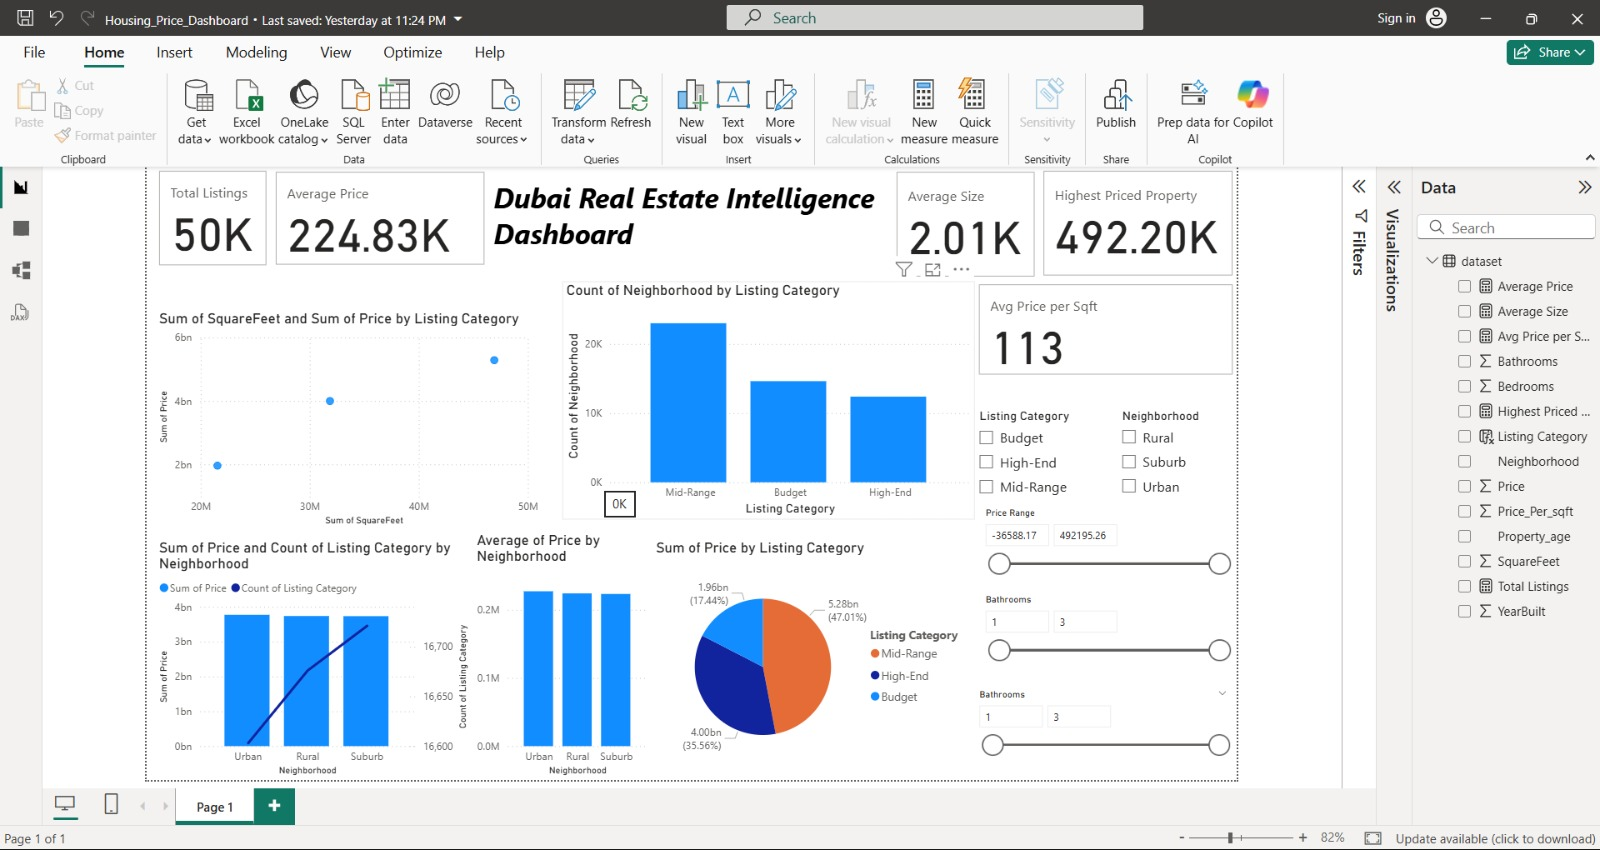

The dashboard page shown, as its layout file describes it:
{"tool":"powerbi","page":{"name":"Page 1","canvas":[1280,720],"ordinal":0},"visuals":[{"type":"cardVisual","fields":{"Data":["dataset.Total Listings"]},"box":[9.8,0,137,121.1],"z":0},{"type":"cardVisual","fields":{"Data":["dataset.Average Price"]},"box":[146.7,1.2,255.6,119.8],"z":1000},{"type":"cardVisual","fields":{"Data":["dataset.Average Size"]},"box":[875.5,1.2,172.4,133.3],"z":2000},{"type":"cardVisual","fields":{"Data":["dataset.Avg Price per Sqft"]},"box":[972.2,133.3,308.2,116.2],"z":3000},{"type":"cardVisual","fields":{"Data":["dataset.Highest Priced Property"]},"box":[1048,0,232.3,133.3],"z":4000},{"type":"slicer","fields":{"Values":["dataset.Bathrooms"]},"box":[972.2,496.5,308.2,111.3],"z":9000},{"type":"slicer","fields":{"Values":["dataset.Neighborhood"]},"box":[1132.3,278.8,148,116.2],"z":10000},{"type":"slicer","fields":{"Values":["dataset.Price"]},"box":[972.2,395,308.2,101.5],"z":12000},{"type":"slicer","fields":{"Values":["dataset.Bathrooms"]},"box":[964.8,607.7,315.5,111.3],"z":13000},{"type":"slicer","fields":{"Values":["dataset.Listing Category"]},"box":[964.8,278.8,165.1,114.9],"z":13001},{"type":"clusteredColumnChart","fields":{"Category":["dataset.Listing Category"],"Y":["CountNonNull(dataset.Neighborhood)"]},"box":[487.9,134.5,484.2,280],"z":13002},{"type":"pieChart","fields":{"Category":["dataset.Listing Category"],"Y":["Sum(dataset.Price)"]},"box":[593.1,436.6,379.1,282.5],"z":13003},{"type":"scatterChart","fields":{"X":["Sum(dataset.SquareFeet)"],"Y":["Sum(dataset.Price)"],"Category":["dataset.Listing Category"]},"box":[9.8,167.5,454.9,259.2],"z":13004},{"type":"clusteredColumnChart","fields":{"Category":["dataset.Neighborhood"],"Y":["Avg(dataset.Price)"]},"box":[382.7,428,210.3,292.3],"z":13005},{"type":"lineClusteredColumnComboChart","fields":{"Category":["dataset.Neighborhood"],"Y":["Sum(dataset.Price)"],"Y2":["CountNonNull(dataset.Listing Category)"]},"box":[9.8,436.6,373,283.7],"z":13006},{"type":"textbox","box":[402.3,9.8,473.2,111.3],"z":13007}]}

Visuals, with their boxes on the page's 1280x720 design canvas (x1, y1, x2, y2). These are canvas units, not pixel positions in the 1600x850 screenshot, which may show the page scaled, cropped or inside an application window:
cardVisual - dataset.Total Listings: bbox(10, 0, 147, 121)
cardVisual - dataset.Average Price: bbox(147, 1, 402, 121)
cardVisual - dataset.Average Size: bbox(876, 1, 1048, 134)
cardVisual - dataset.Avg Price per Sqft: bbox(972, 133, 1280, 250)
cardVisual - dataset.Highest Priced Property: bbox(1048, 0, 1280, 133)
slicer - dataset.Bathrooms: bbox(972, 496, 1280, 608)
slicer - dataset.Neighborhood: bbox(1132, 279, 1280, 395)
slicer - dataset.Price: bbox(972, 395, 1280, 496)
slicer - dataset.Bathrooms: bbox(965, 608, 1280, 719)
slicer - dataset.Listing Category: bbox(965, 279, 1130, 394)
clusteredColumnChart - dataset.Listing Category x CountNonNull(dataset.Neighborhood): bbox(488, 134, 972, 414)
pieChart - dataset.Listing Category x Sum(dataset.Price): bbox(593, 437, 972, 719)
scatterChart - Sum(dataset.SquareFeet) x Sum(dataset.Price): bbox(10, 168, 465, 427)
clusteredColumnChart - dataset.Neighborhood x Avg(dataset.Price): bbox(383, 428, 593, 720)
lineClusteredColumnComboChart - dataset.Neighborhood x Sum(dataset.Price): bbox(10, 437, 383, 720)
textbox: bbox(402, 10, 876, 121)
